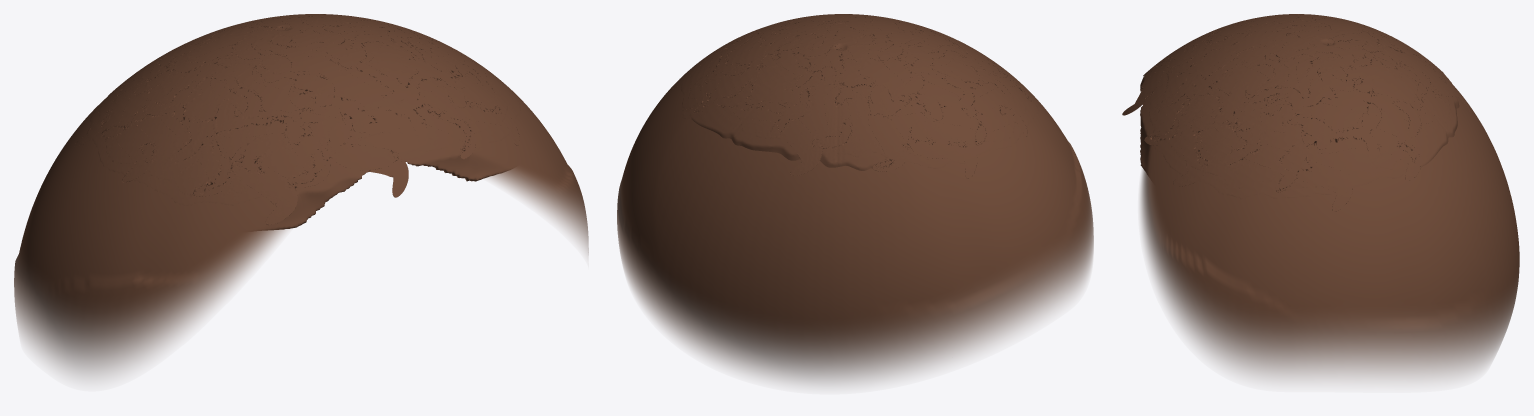
File: Ombre-df79dd21012d253-hair.glb
3 views of the same model, side by side, from view 1: azimuth 30°, elevation 25°; view 2: azimuth 150°, elevation 25°; view 3: azimuth 270°, elevation 25° (orthographic). The views are drawn at different scales.
Visible parts, largest first — view 1: 226 hair / Hair252 / curly close fade coverage.001, 226 hair / Hair252 / sculpted curl groups.001; view 2: 226 hair / Hair252 / curly close fade coverage.001, 226 hair / Hair252 / sculpted curl groups.001; view 3: 226 hair / Hair252 / curly close fade coverage.001, 226 hair / Hair252 / sculpted curl groups.001.
Part boxes in pixels (left/top/right/bottom): 226 hair / Hair252 / curly close fade coverage.001: left=14, top=14, right=588, bottom=376; 226 hair / Hair252 / sculpted curl groups.001: left=74, top=14, right=521, bottom=230; 226 hair / Hair252 / curly close fade coverage.001: left=617, top=14, right=1093, bottom=384; 226 hair / Hair252 / sculpted curl groups.001: left=672, top=14, right=1038, bottom=178; 226 hair / Hair252 / curly close fade coverage.001: left=1140, top=14, right=1519, bottom=379; 226 hair / Hair252 / sculpted curl groups.001: left=1122, top=14, right=1471, bottom=211.
Size of the model in its own units: 0.976 by 0.6423 by 0.7406.
Materials: 2 (2 with a texture image).
